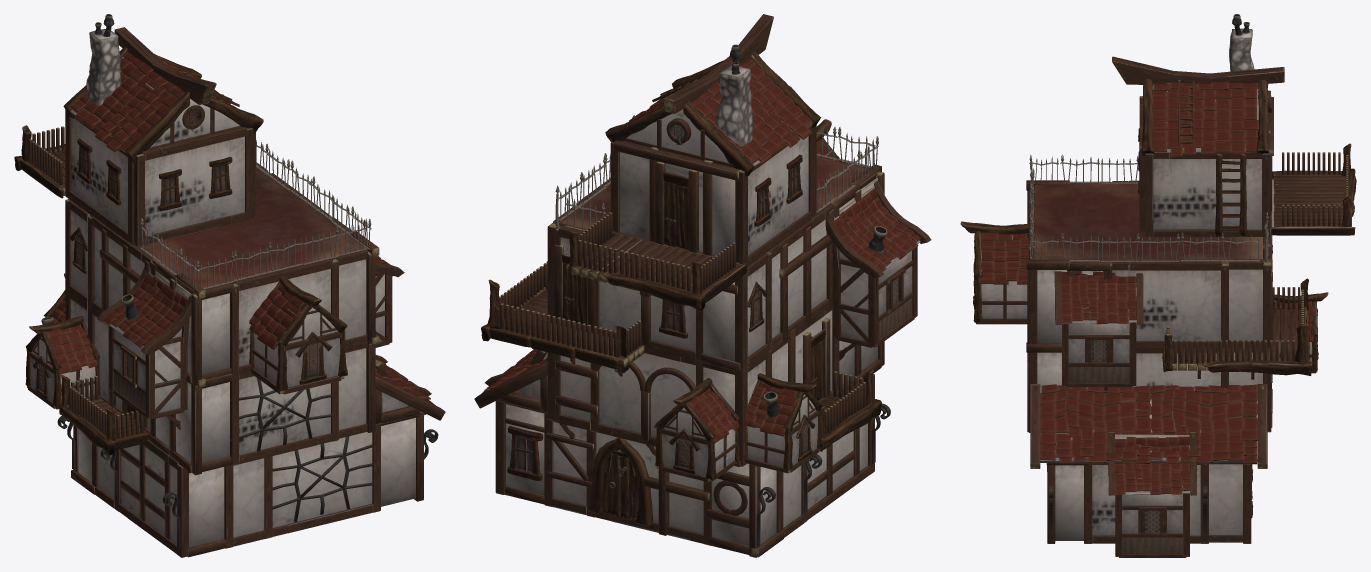
The model's file is House_V5_LOD.fbx.
3 renders of one model, left to right at view 1: azimuth 30°, elevation 25°; view 2: azimuth 150°, elevation 25°; view 3: azimuth 270°, elevation 25°, orthographic. The views are drawn at different scales.
Visible parts, largest first — view 1: House_V5_LOD0; view 2: House_V5_LOD0; view 3: House_V5_LOD0.
Boxes of the visible parts, <box> form: House_V5_LOD0: <box>14,14,445,557</box>; House_V5_LOD0: <box>474,14,931,557</box>; House_V5_LOD0: <box>960,14,1356,557</box>.
Size of what is drawn, in the model's own units: 1335 by 1784 by 1481.
1 material, 1 textured.
